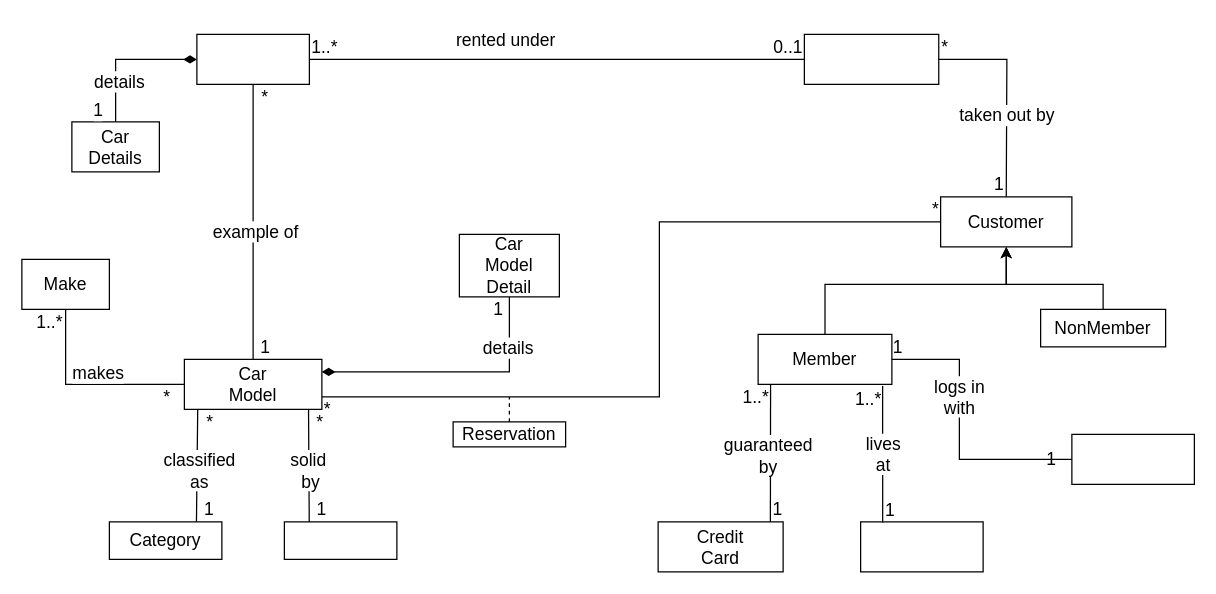
Image size: 1216x594. Some labels were removed from this diagram. The shapes that lost their labels are listed below. From the top down, each one's centre as x and y in pixels, then its label:
point (252, 58): Car
point (871, 58): Rental
point (1132, 458): Internet Account
point (340, 540): Vendor
point (921, 546): Address
